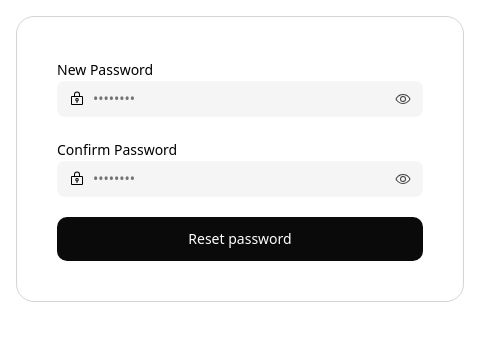
ResetPasswordForm › should display validation error for short password
Type "short" into the password field labelled "New Password".
click(240, 99); type("short")  # box top-left (57, 81), bottom-right (423, 117)
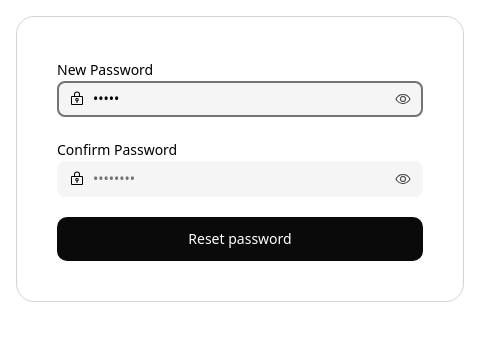
Type "short" into the password field labelled "Confirm Password".
click(240, 179); type("short")  # box top-left (57, 161), bottom-right (423, 197)
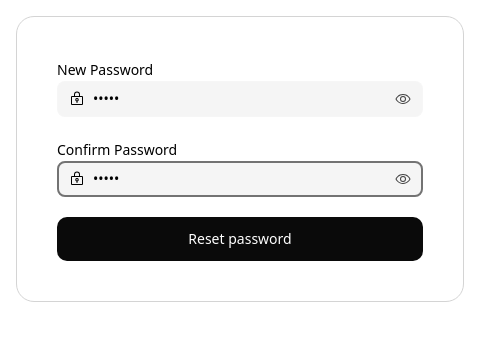
Click the button "Reset password".
click(240, 239)  # box top-left (57, 217), bottom-right (423, 261)
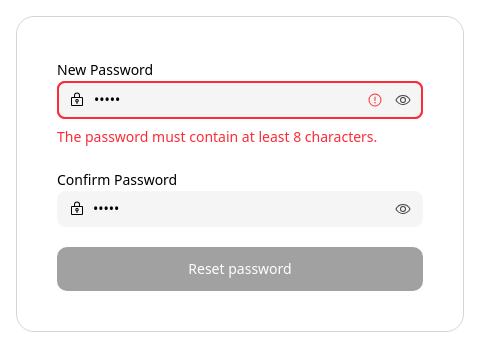
Expected: the text "The password must contain at least 8 characters." is shown, top-left (57, 127), bottom-right (423, 147)
